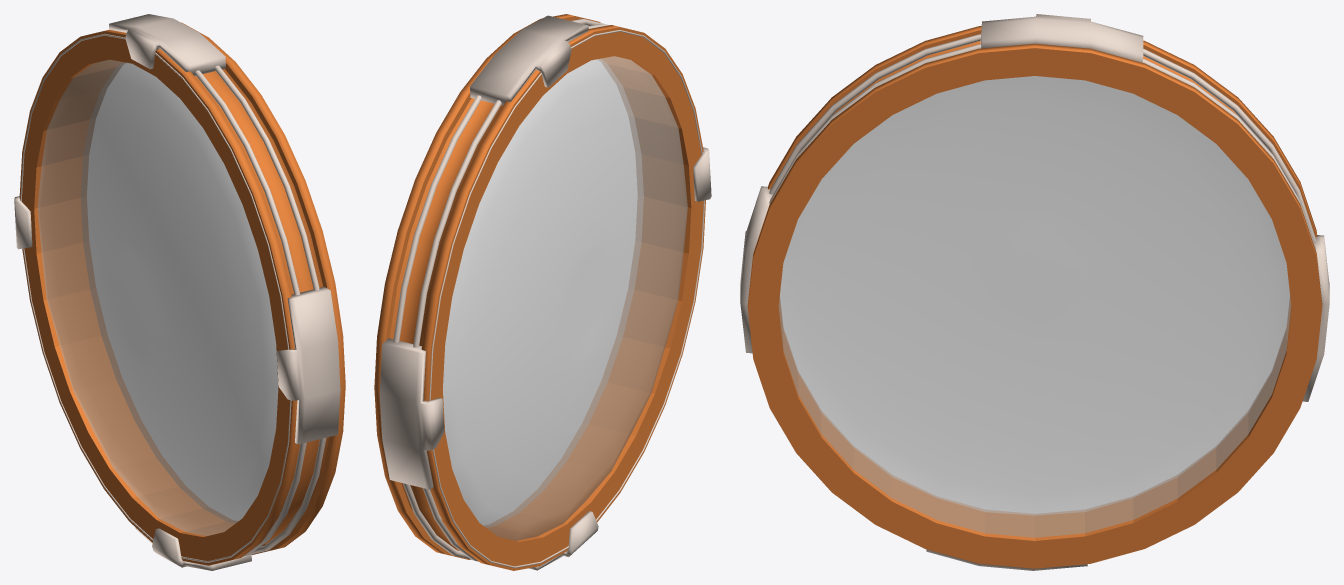
Rendered from Linse01.fbx.
3 renders of one model, left to right at view 1: azimuth 30°, elevation 25°; view 2: azimuth 150°, elevation 25°; view 3: azimuth 270°, elevation 25°, orthographic. The views are drawn at different scales.
Visible parts, largest first — view 1: Lens, Frame, Clamps; view 2: Lens, Frame, Clamps; view 3: Lens, Frame, Clamps.
Boxes of the visible parts, x1,y1,x2,y2 form: Lens: [37, 59, 278, 536]; Frame: [19, 22, 345, 565]; Clamps: [14, 14, 340, 570]; Lens: [443, 56, 687, 540]; Frame: [374, 14, 705, 570]; Clamps: [379, 15, 711, 570]; Lens: [778, 76, 1291, 537]; Frame: [747, 26, 1322, 568]; Clamps: [740, 14, 1329, 570].
Size of the model in its own units: 5.31 by 34.88 by 34.88.
